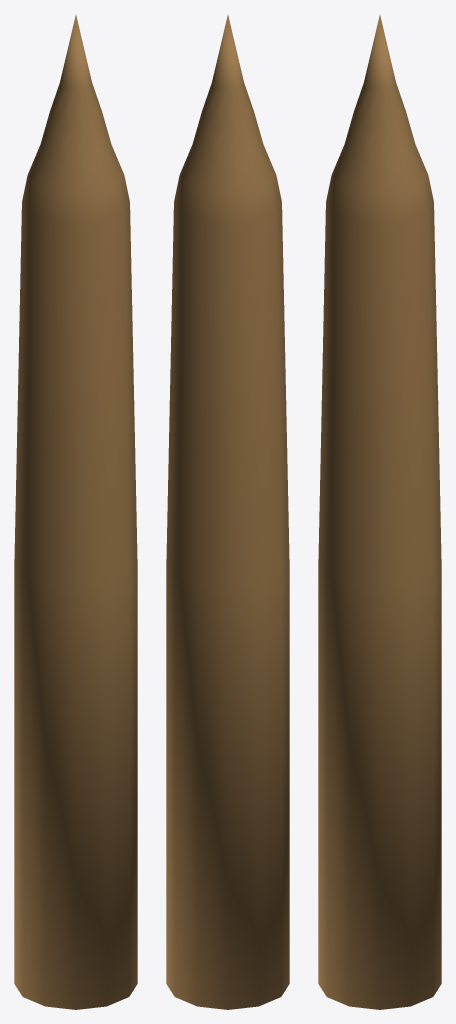
File: estaca_madeira_solo.fbx
The picture shows the model from 3 angles, left to right: view 1: azimuth 90°, elevation 25°; view 2: azimuth 150°, elevation 25°; view 3: azimuth 270°, elevation 25°; orthographic projection.
Visible parts, largest first — view 1: estaca_solo; view 2: estaca_solo; view 3: estaca_solo.
Part boxes in pixels (bbox=[...]): estaca_solo: bbox=[14, 15, 137, 1009]; estaca_solo: bbox=[166, 15, 289, 1009]; estaca_solo: bbox=[318, 15, 441, 1009].
Size of the model in its own units: 120 by 1042 by 120.
